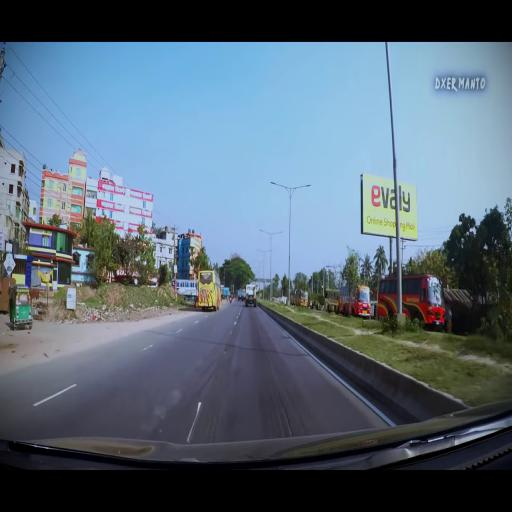bus: (378, 273, 446, 327), (339, 286, 371, 318), (198, 269, 222, 310), (172, 279, 199, 296), (324, 288, 340, 313), (296, 290, 309, 307)
three wheelers (CNG): (9, 283, 34, 329)
truck: (245, 284, 258, 308)
